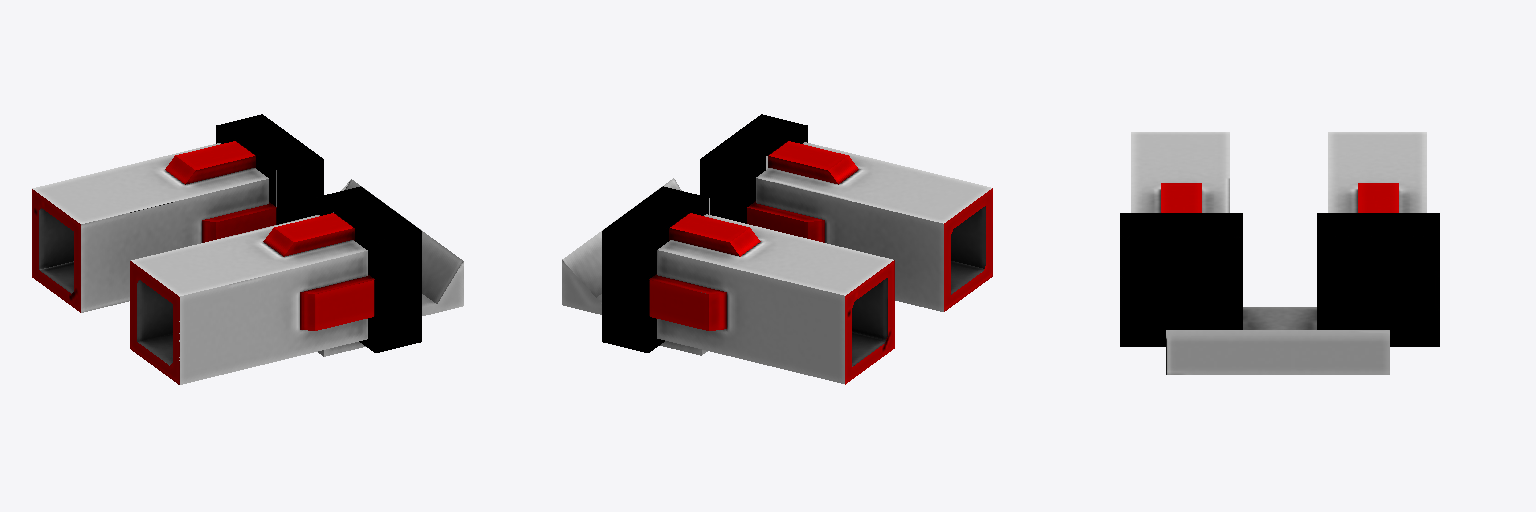
3 renders of one model, left to right at view 1: azimuth 30°, elevation 25°; view 2: azimuth 150°, elevation 25°; view 3: azimuth 270°, elevation 25°, orthographic.
Visible parts, largest first — view 1: Box006.006; view 2: Box006.006; view 3: Box006.006.
Boxes of the visible parts, box(x1,y1,x2,y2) form: Box006.006: box(32, 114, 463, 384); Box006.006: box(562, 114, 992, 384); Box006.006: box(1120, 132, 1439, 374).
Bounding box in the file's own units: 6.67 × 2.63 × 6.12.
Materials: 1 (1 with a texture image).